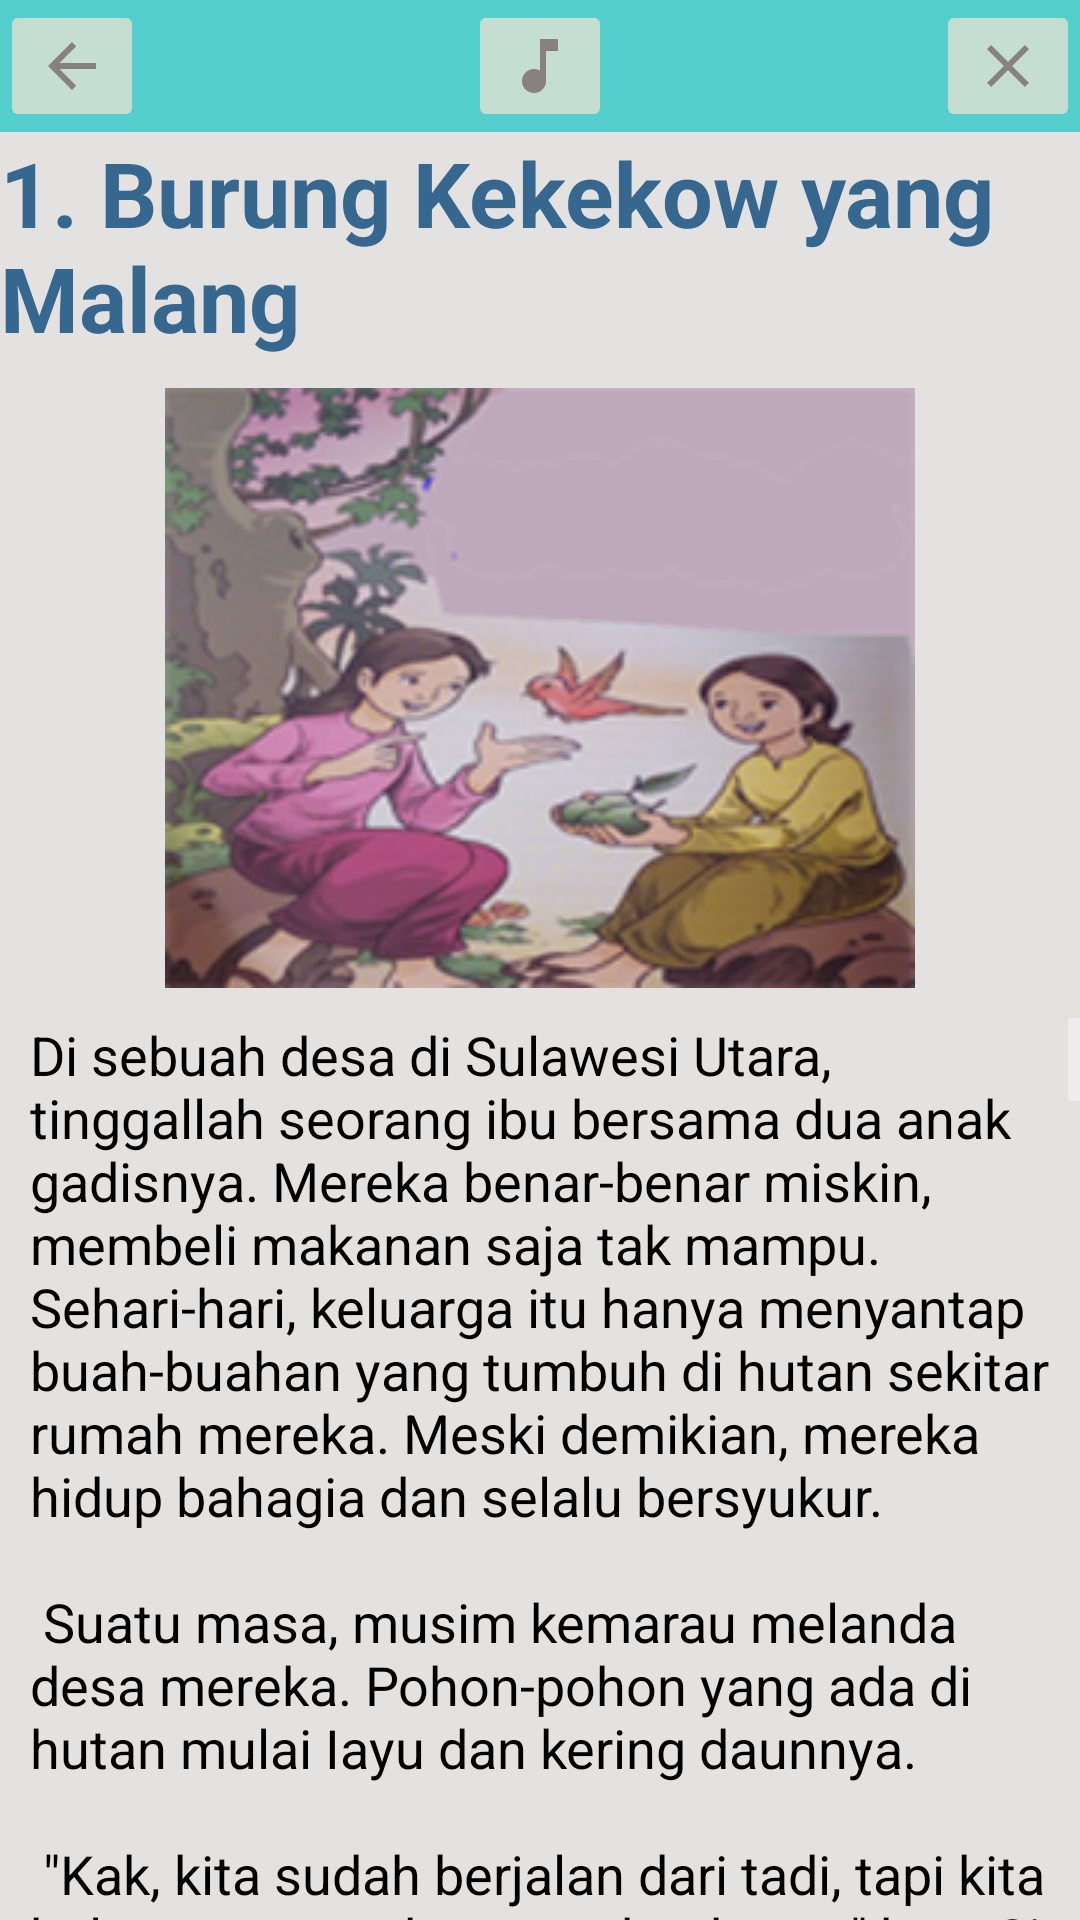

Where to tap for icons on this 1080px x 1920px app screen, as point (x, y):
arrow back: point (72, 66)
close: point (1008, 66)
music note: point (540, 66)
